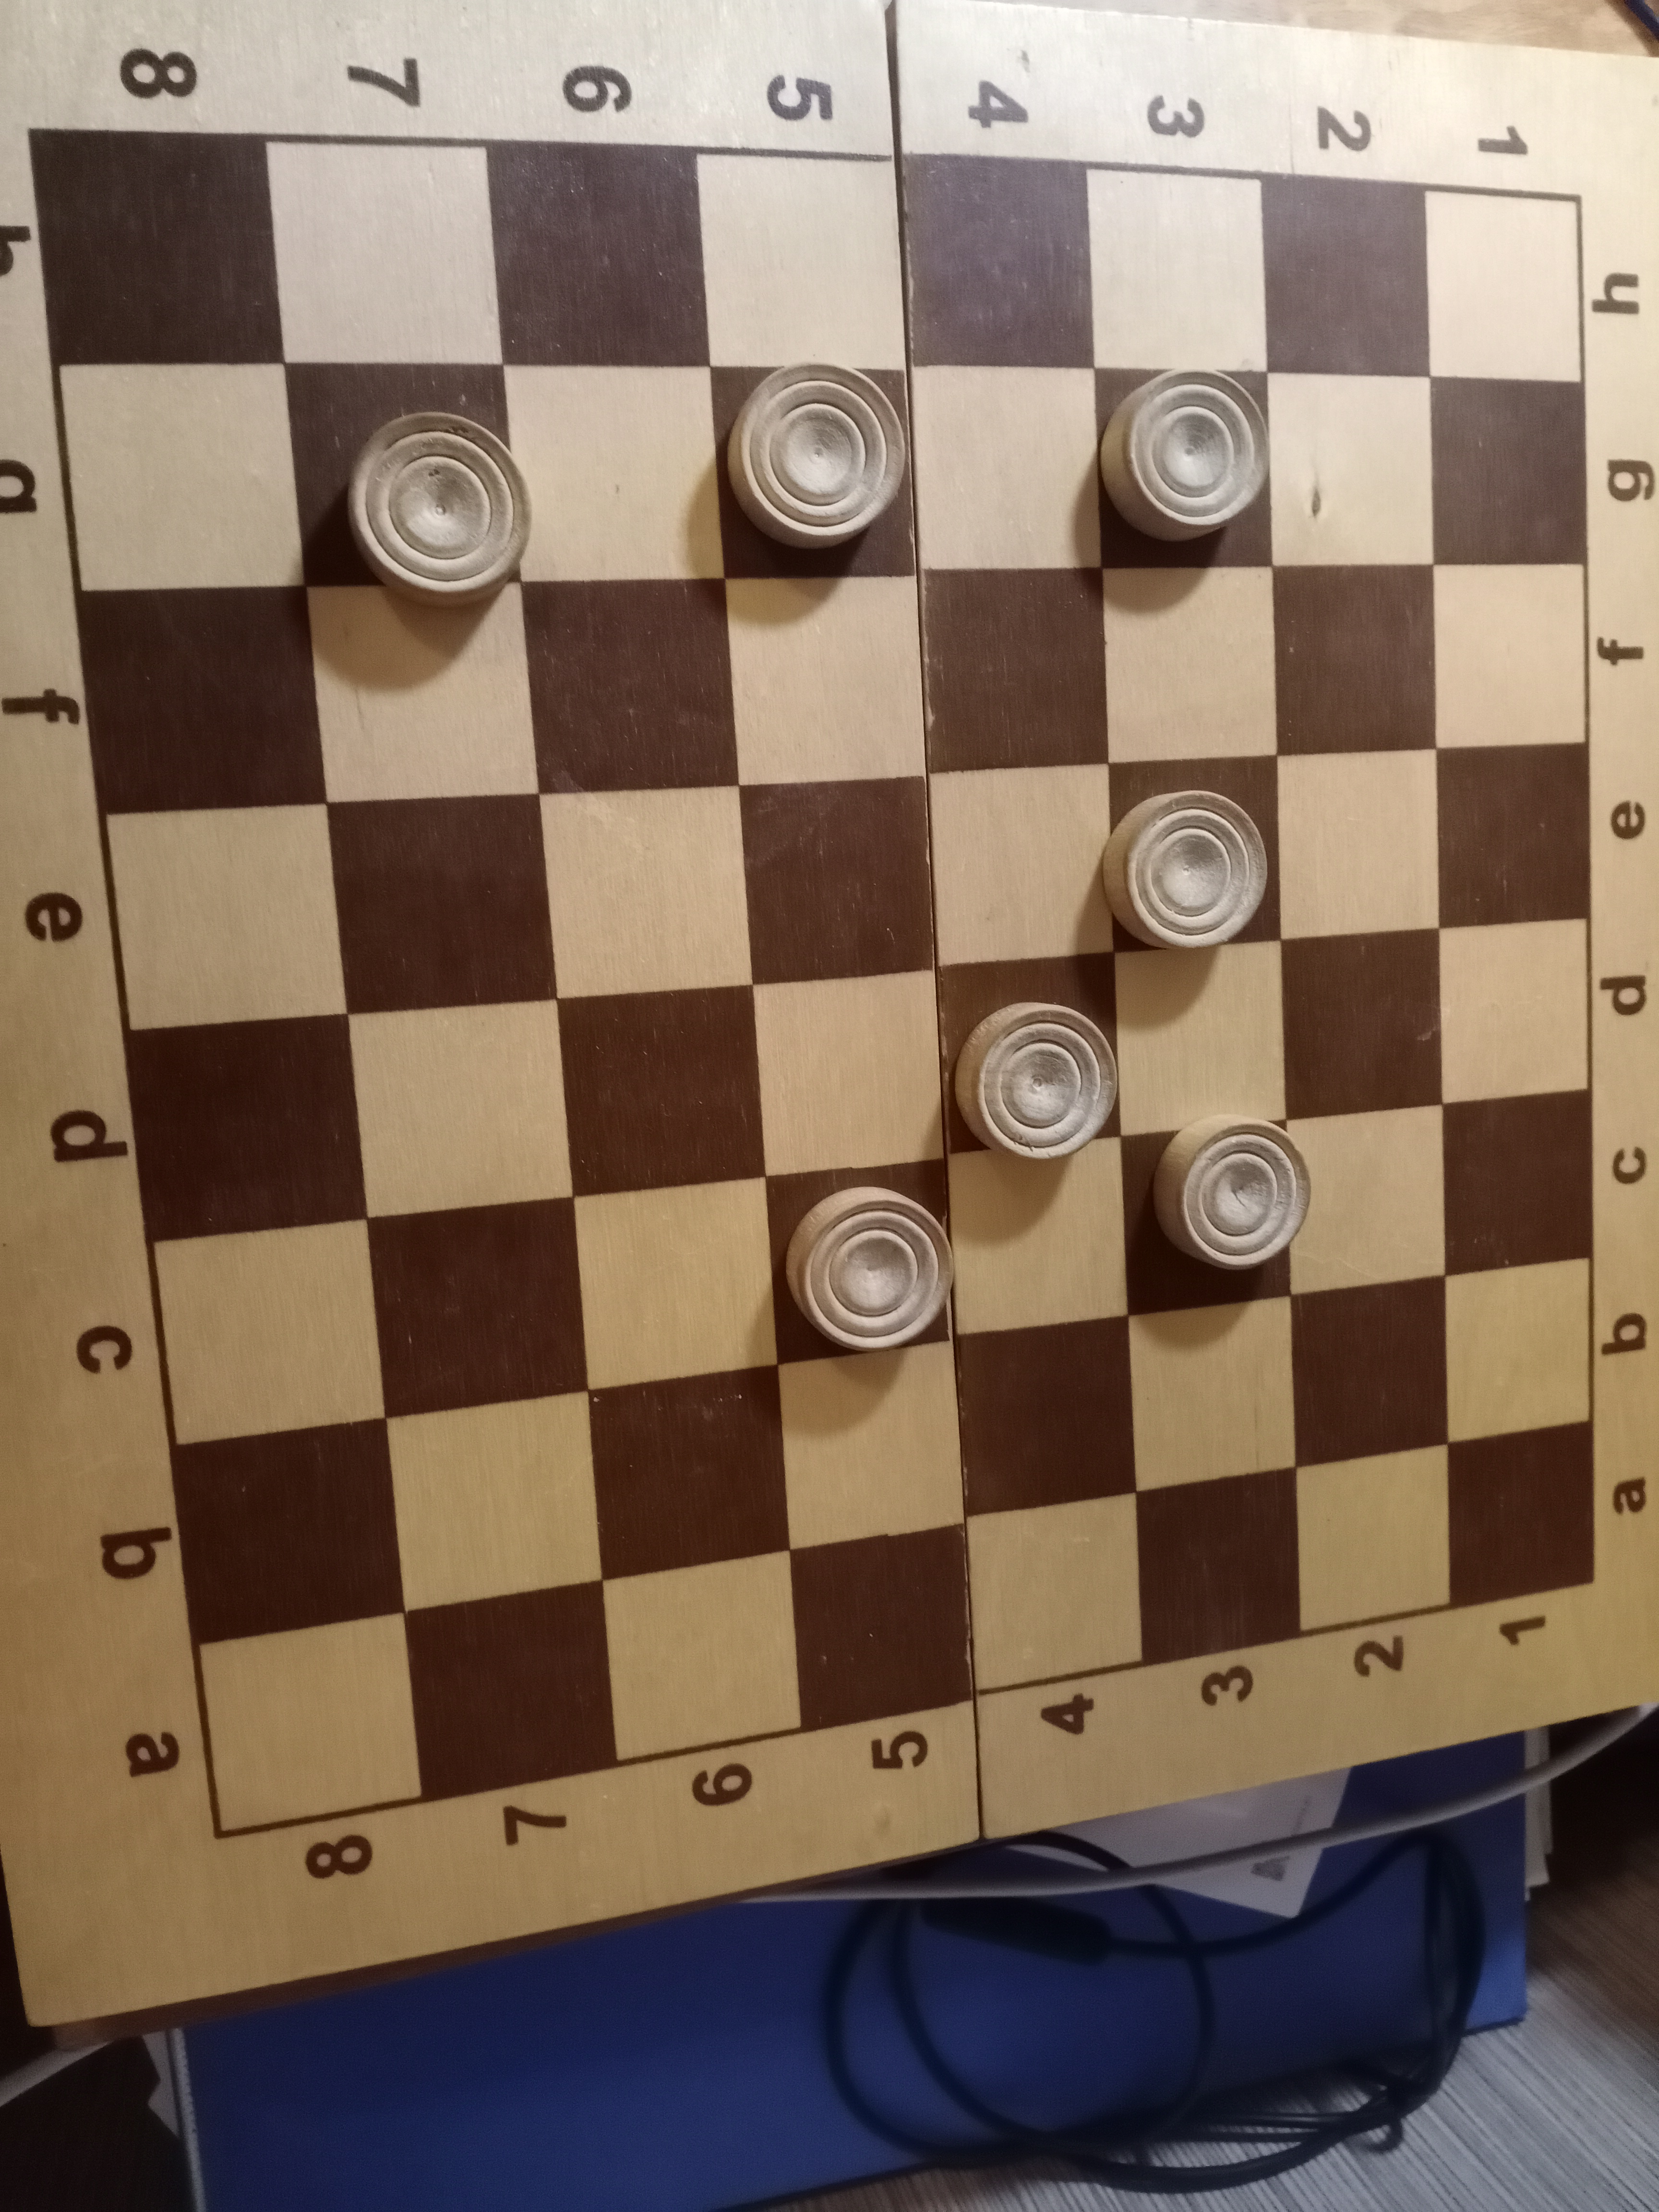White_Draught: (284, 362, 535, 608), (713, 362, 918, 580), (765, 1157, 955, 1367), (934, 954, 1124, 1163), (1121, 1116, 1312, 1315), (1096, 368, 1276, 570), (1103, 756, 1279, 951)
